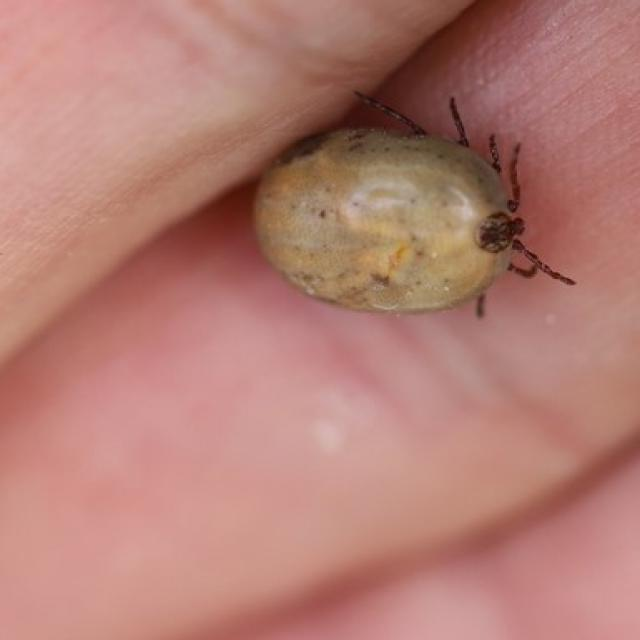Dermacentor Reticulatus-F-Fed: (253, 90, 577, 319)
